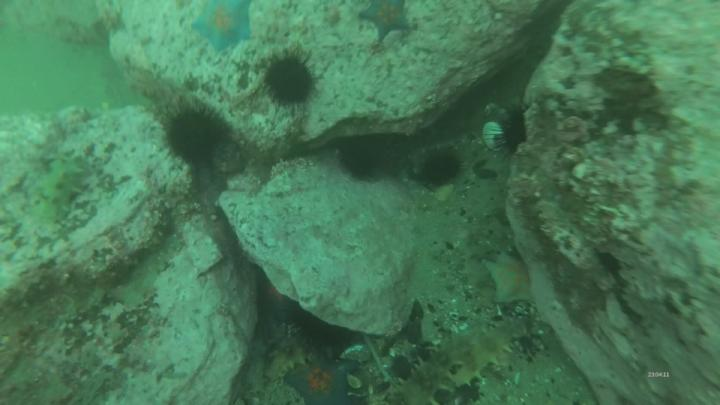echinus: (171, 112, 224, 163), (266, 60, 314, 104), (339, 137, 388, 178), (424, 153, 462, 183), (505, 117, 527, 151)
holothurian: (394, 328, 476, 405), (458, 316, 537, 387), (37, 160, 88, 223)
scallop: (484, 121, 504, 152)
starfish: (291, 352, 358, 405), (191, 1, 250, 50), (489, 252, 534, 302), (360, 2, 411, 39)
